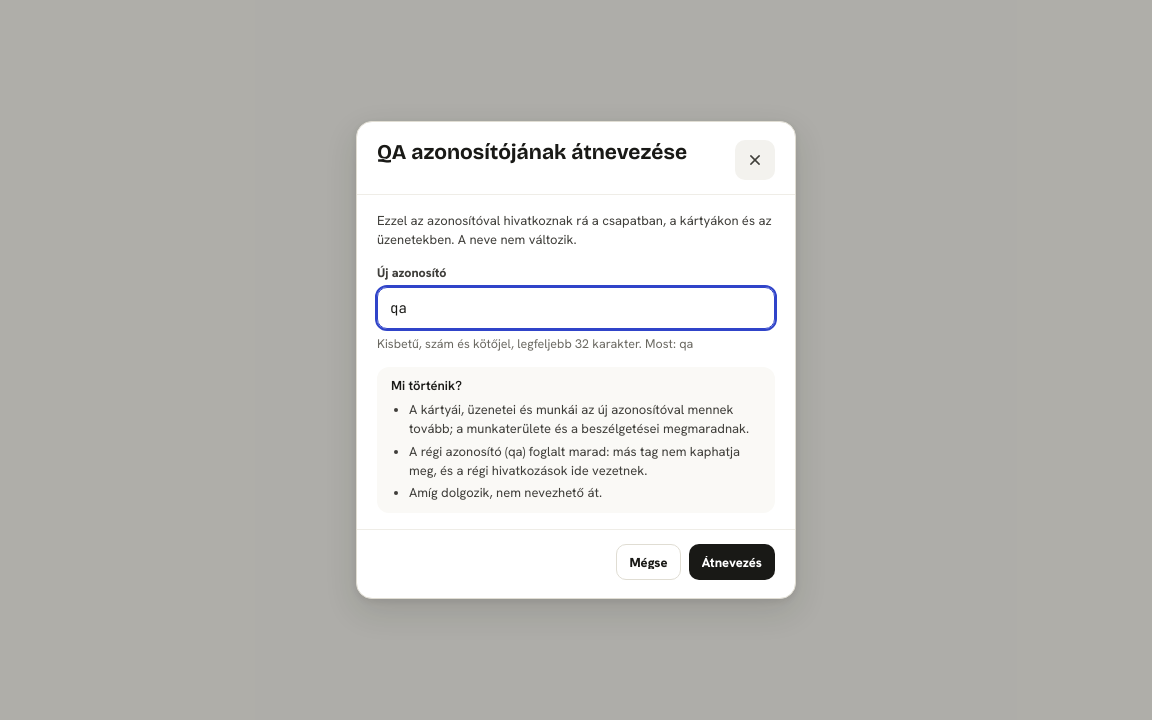
RenameMemberDialog (PM-1026) › names the mailbox address the member will have when its e-mail is on
Replace the text in the field labelled "Új azonosító" with "tester": (576, 308) x1=377 y1=287 x2=775 y2=329
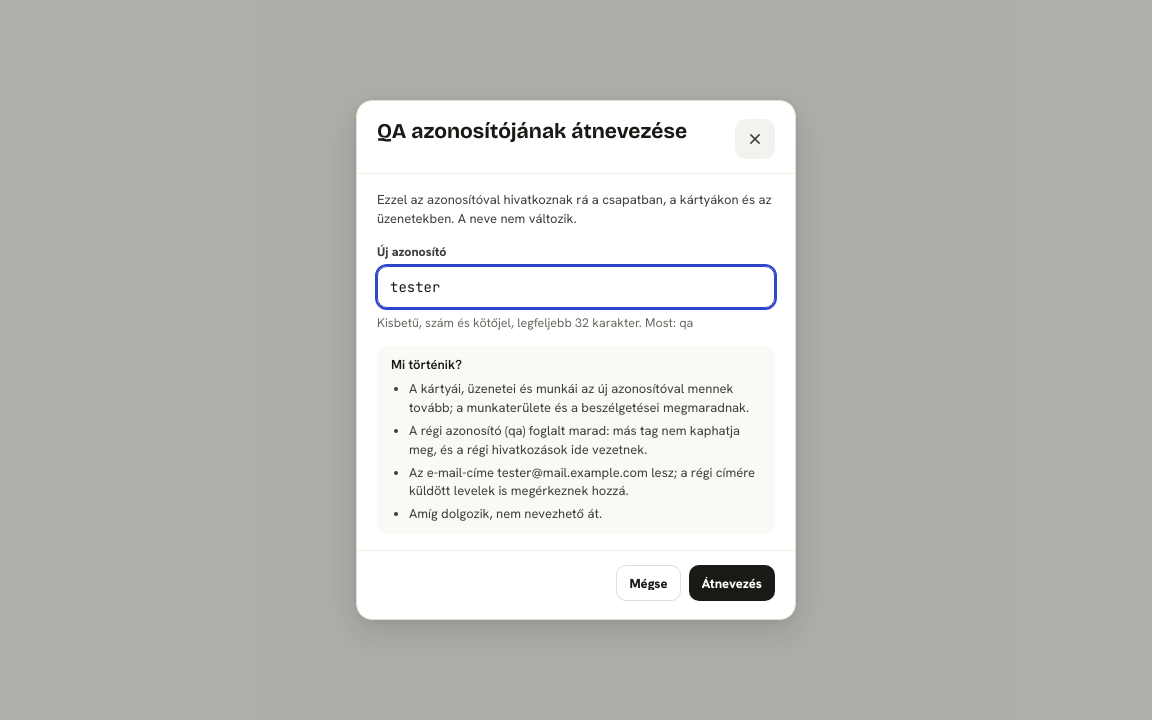
Expected: the list item "tester@mail.example.com" is shown, x1=409 y1=464 x2=755 y2=499
